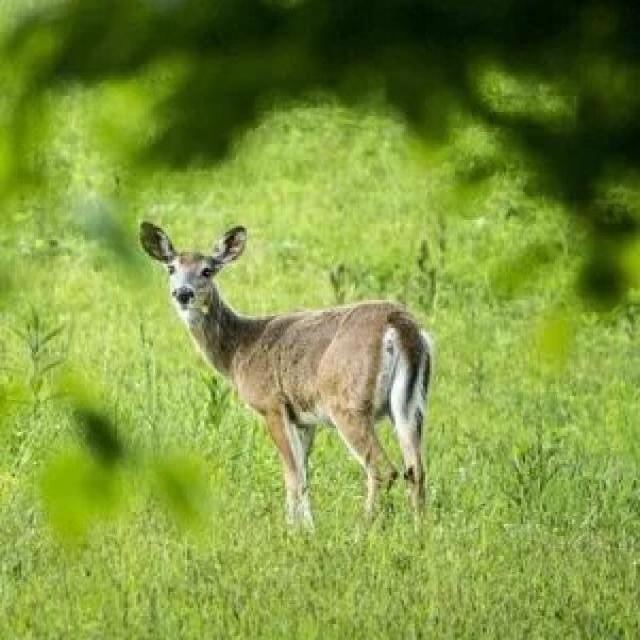deer: (120, 197, 500, 540)
